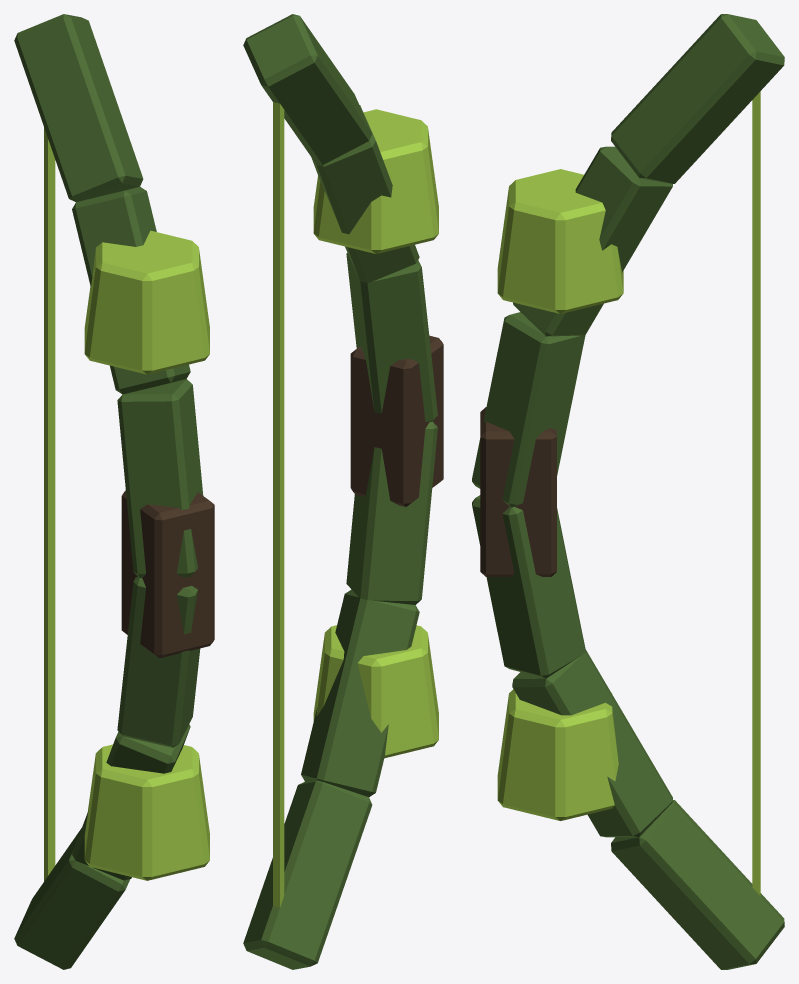
The model's file is archer_acid.glb.
3 views of the same model, side by side, from view 1: azimuth 30°, elevation 25°; view 2: azimuth 150°, elevation 25°; view 3: azimuth 270°, elevation 25° (orthographic).
Visible parts, largest first — view 1: weapon.020; view 2: weapon.020; view 3: weapon.020.
Part boxes in pixels (left/top/right/bottom): weapon.020: left=14, top=14, right=214, bottom=969; weapon.020: left=243, top=14, right=443, bottom=969; weapon.020: left=472, top=14, right=784, bottom=969.
Size of the model in its own units: 0.1991 by 1.51 by 0.4472.
